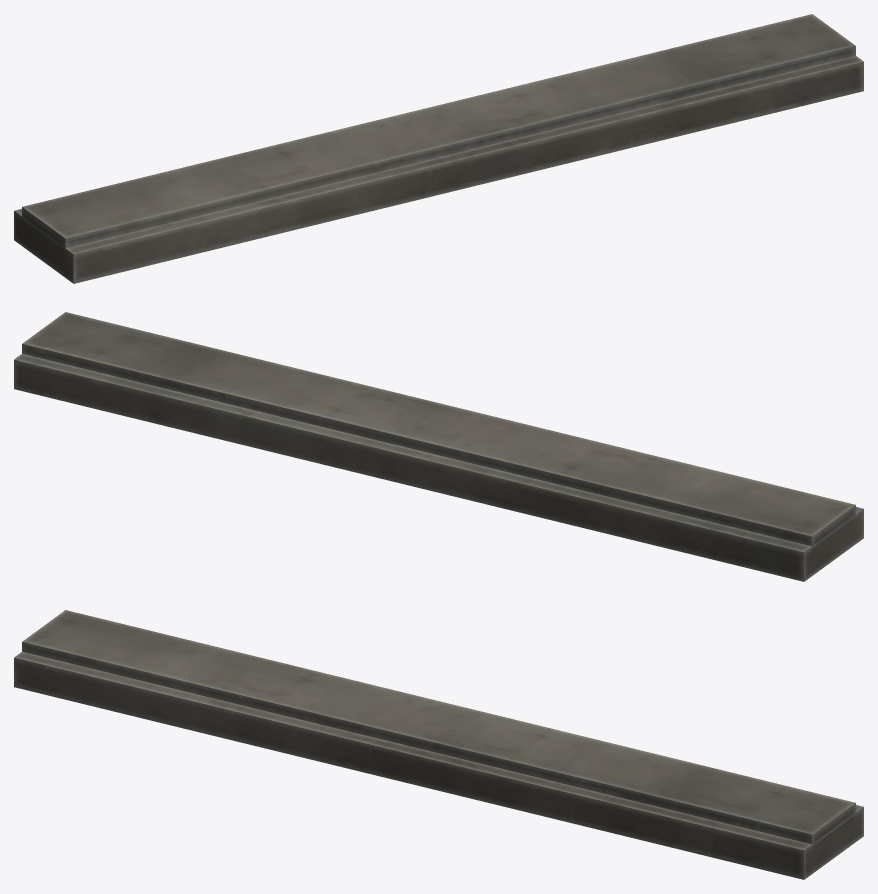
The model's file is cap.glb.
The picture shows the model from 3 angles, top to bottom: view 1: azimuth 30°, elevation 25°; view 2: azimuth 150°, elevation 25°; view 3: azimuth 330°, elevation 25°; orthographic projection.
Parts seen in each view (by area): view 1: te_retaining_cap; view 2: te_retaining_cap; view 3: te_retaining_cap.
Boxes of the visible parts, x1,y1,x2,y2 form: te_retaining_cap: (14, 14, 863, 283); te_retaining_cap: (14, 312, 863, 581); te_retaining_cap: (14, 610, 863, 879).
Size of the model in its own units: 0.84 by 0.04 by 0.11.
1 material, 1 textured.
